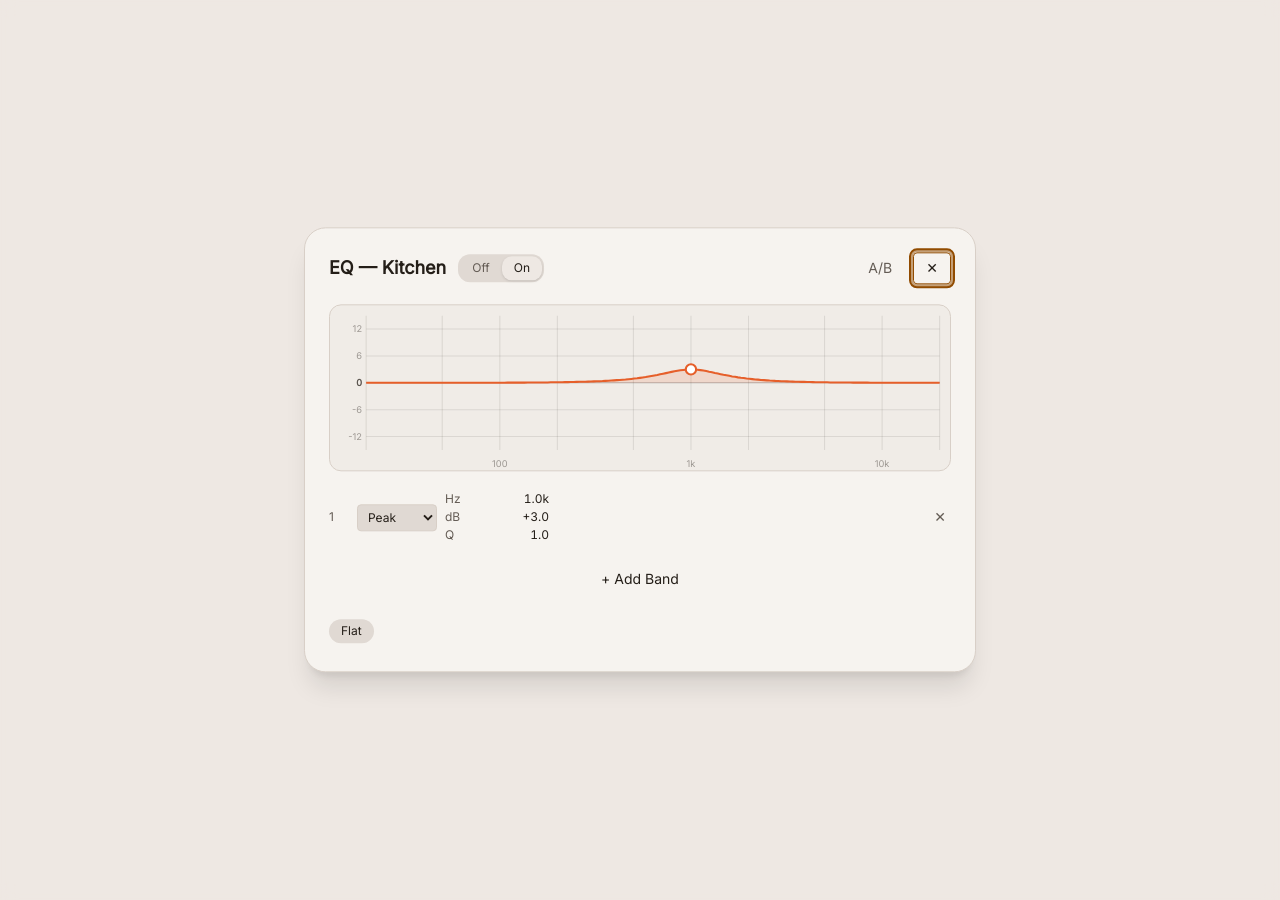
EqOverlay, sending edits › restores the server config after a failed request
Expected: the text "+3.0" is shown, 522,510 -> 549,525
Click the button named "Remove band 1". click: (940, 518)
box: 929,502 -> 951,534
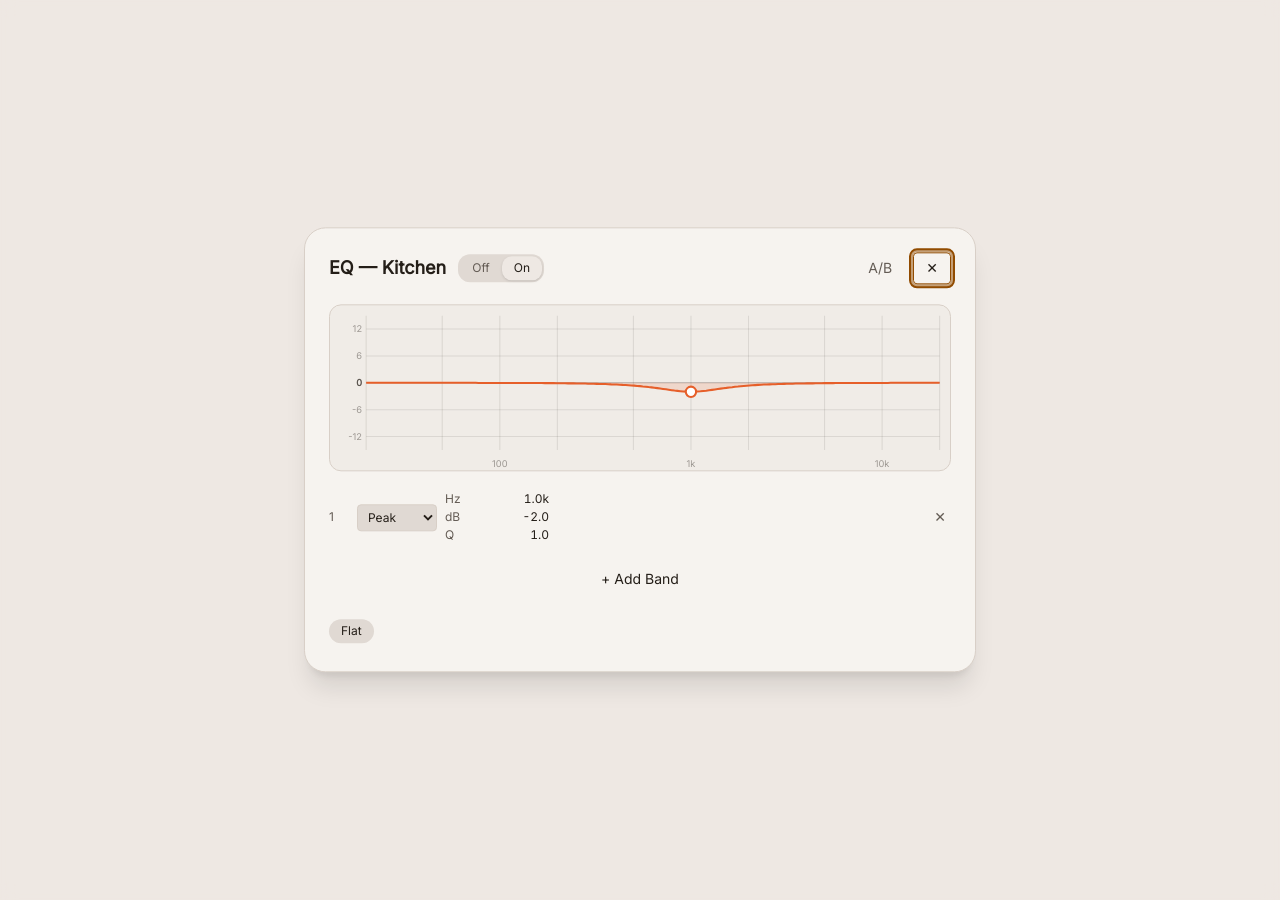
Now the text "+3.0" is gone
Now the text "-2.0" is shown, box 522,510 -> 549,525
